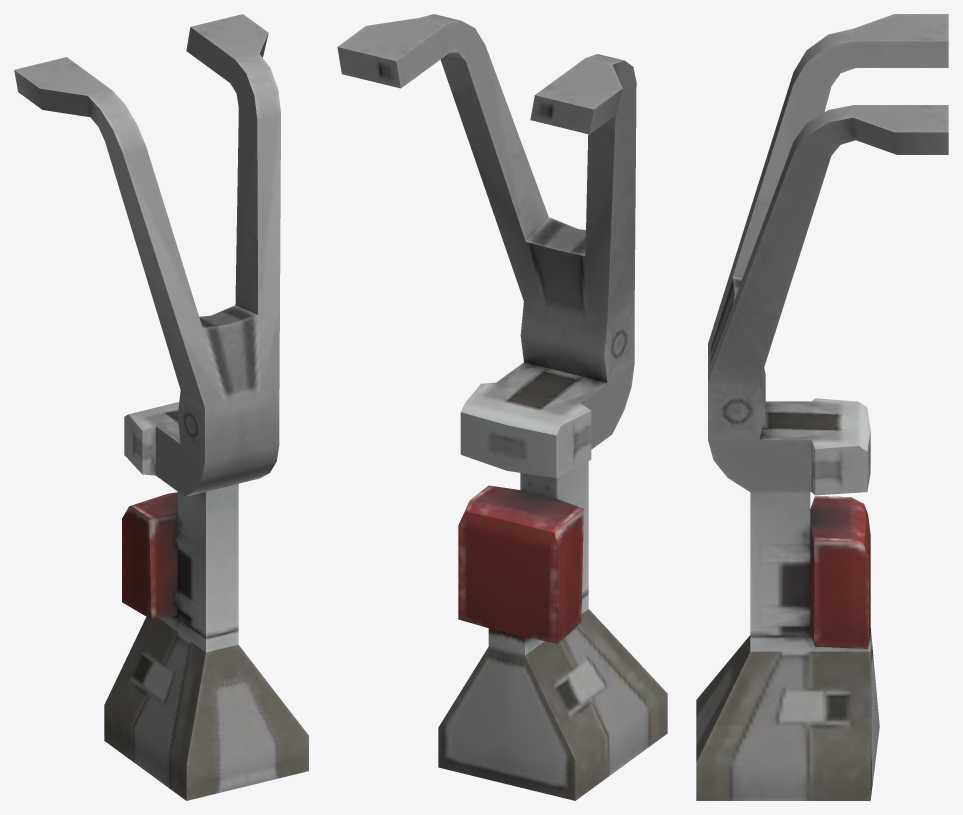
The model's file is Part - Pylon 08-mpYwLjAT.glb.
3 views of the same model, side by side, from view 1: azimuth 30°, elevation 25°; view 2: azimuth 150°, elevation 25°; view 3: azimuth 270°, elevation 25° (orthographic). The views are drawn at different scales.
Parts seen in each view (by area): view 1: Pylon_08; view 2: Pylon_08; view 3: Pylon_08.
Boxes of the visible parts, box(x1,y1,x2,y2) form: Pylon_08: box(14, 14, 308, 800); Pylon_08: box(337, 14, 667, 800); Pylon_08: box(696, 14, 948, 800).
Size of the model in its own units: 0.7293 by 2 by 0.6572.
1 material, 1 textured.
